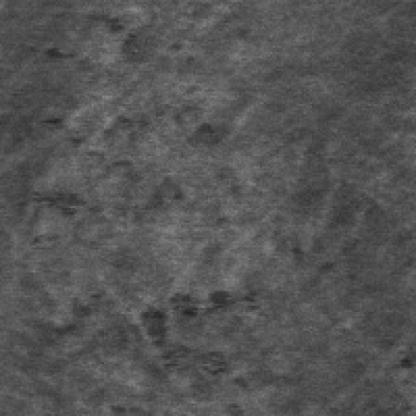rolled-in_scale: (23, 83, 214, 250), (79, 264, 283, 412)
